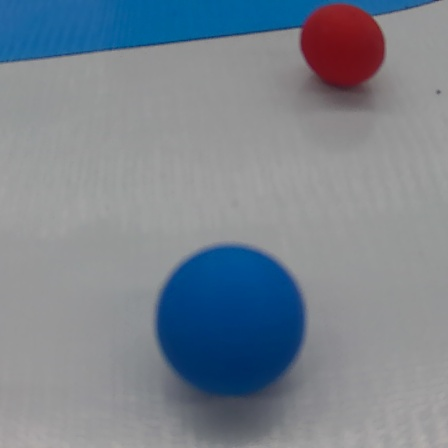blue: (151, 241, 314, 401)
blue_base: (0, 0, 424, 66)
red: (291, 4, 391, 93)
